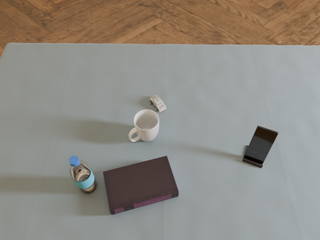book: (103, 156, 179, 215)
bottle: (69, 156, 97, 193)
cup: (129, 110, 159, 142)
phone: (244, 126, 278, 164)
toy_car: (149, 95, 166, 112)
